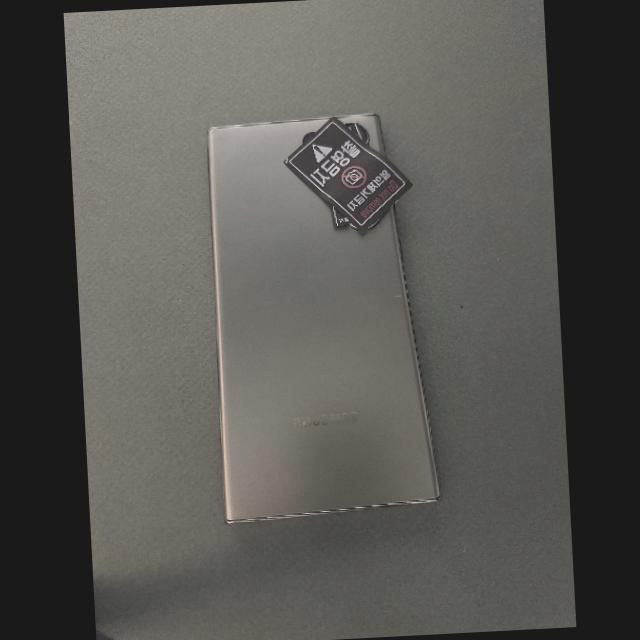lens: (346, 123, 368, 144), (303, 133, 312, 141)
sticker: (283, 117, 413, 233), (331, 207, 354, 228), (346, 124, 365, 141)
